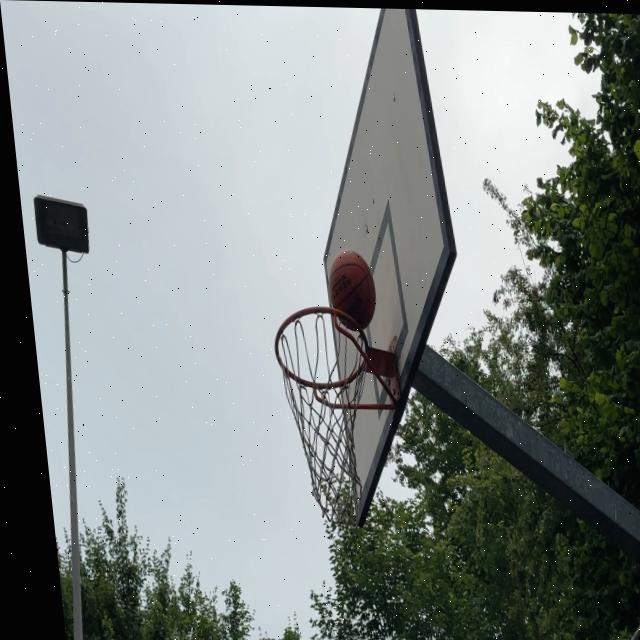rebound_hit: (327, 253, 380, 334)
